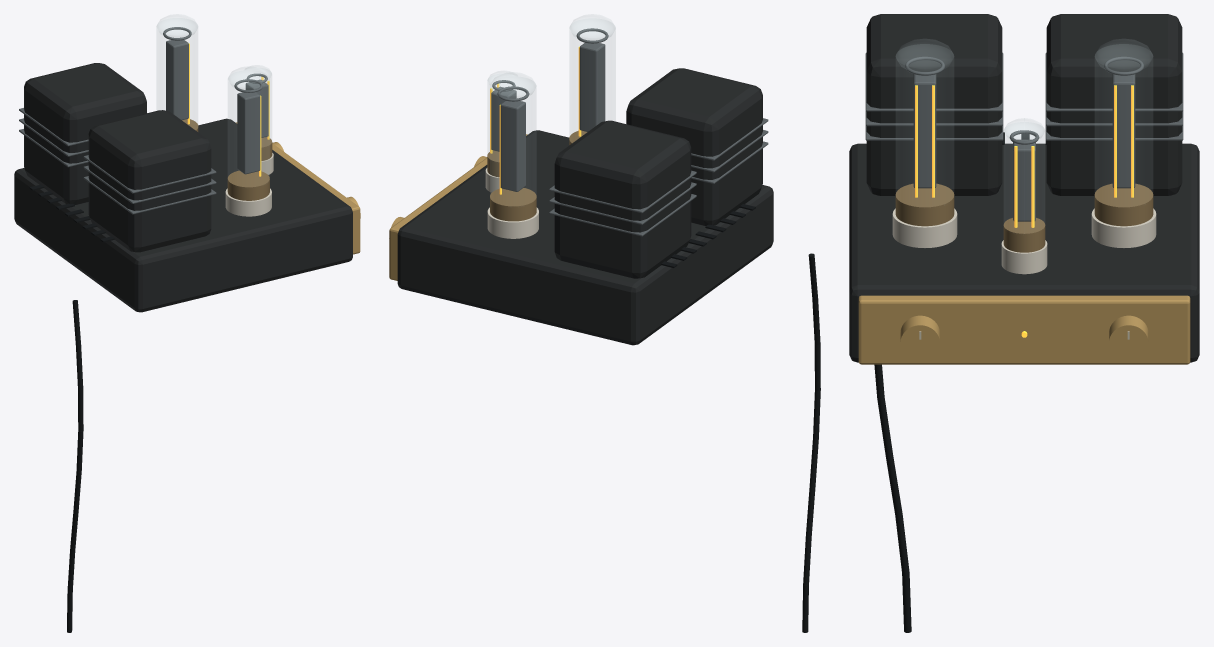
File: tube-amplifier-right.glb
3 views of the same model, side by side, from view 1: azimuth 30°, elevation 25°; view 2: azimuth 150°, elevation 25°; view 3: azimuth 270°, elevation 25° (orthographic). The views are drawn at different scales.
Parts seen in each view (by area): view 1: part::tube-amplifier-right/brushed-chassis-001, part::tube-amplifier-right/output-transformer-bell-002, part::tube-amplifier-right/output-transformer-bell-001, part::tube-amplifier-right/internal-anode-plate-002, part::tube-amplifier-right/internal-anode-plate-001, part::tube-amplifier-right/glass-valve-envelope-002, part::tube-amplifier-right/glass-valve-envelope-001, part::tube-amplifier-right/valve-brass-base-002, part::tube-amplifier-right/champagne-faceplate-001, part::tube-amplifier-right/ceramic-tube-socket-002, part::tube-amplifier-right/rounded-glass-crown-001, part::tube-amplifier-right/rounded-glass-crown-002 (+1 smaller); view 2: part::tube-amplifier-right/brushed-chassis-001, part::tube-amplifier-right/output-transformer-bell-001, part::tube-amplifier-right/output-transformer-bell-002, part::tube-amplifier-right/internal-anode-plate-001, part::tube-amplifier-right/internal-anode-plate-002, part::tube-amplifier-right/glass-valve-envelope-001, part::tube-amplifier-right/glass-valve-envelope-002, part::tube-amplifier-right/valve-brass-base-001, part::tube-amplifier-right/champagne-faceplate-001, part::tube-amplifier-right/ceramic-tube-socket-001, part::tube-amplifier-right/rounded-glass-crown-001, part::tube-amplifier-right/rounded-glass-crown-002 (+1 smaller); view 3: part::tube-amplifier-right/brushed-chassis-001, part::tube-amplifier-right/output-transformer-bell-001, part::tube-amplifier-right/output-transformer-bell-002, part::tube-amplifier-right/champagne-faceplate-001, part::tube-amplifier-right/glass-valve-envelope-001, part::tube-amplifier-right/glass-valve-envelope-002, part::tube-amplifier-right/valve-brass-base-001, part::tube-amplifier-right/valve-brass-base-002, part::tube-amplifier-right/internal-anode-plate-001, part::tube-amplifier-right/internal-anode-plate-002, part::tube-amplifier-right/ceramic-tube-socket-001, part::tube-amplifier-right/ceramic-tube-socket-002 (+15 smaller).
Boxes of the visible parts, left/top/right/bottom form: part::tube-amplifier-right/brushed-chassis-001: left=14, top=118, right=352, bottom=312; part::tube-amplifier-right/output-transformer-bell-002: left=88, top=110, right=211, bottom=252; part::tube-amplifier-right/output-transformer-bell-001: left=24, top=63, right=146, bottom=204; part::tube-amplifier-right/internal-anode-plate-002: left=237, top=90, right=260, bottom=174; part::tube-amplifier-right/internal-anode-plate-001: left=166, top=37, right=188, bottom=120; part::tube-amplifier-right/glass-valve-envelope-002: left=228, top=79, right=269, bottom=176; part::tube-amplifier-right/glass-valve-envelope-001: left=157, top=19, right=197, bottom=122; part::tube-amplifier-right/valve-brass-base-002: left=227, top=170, right=269, bottom=200; part::tube-amplifier-right/champagne-faceplate-001: left=236, top=122, right=360, bottom=254; part::tube-amplifier-right/ceramic-tube-socket-002: left=225, top=188, right=271, bottom=216; part::tube-amplifier-right/rounded-glass-crown-001: left=157, top=14, right=197, bottom=37; part::tube-amplifier-right/rounded-glass-crown-002: left=228, top=67, right=268, bottom=89; part::tube-amplifier-right/brushed-chassis-001: left=397, top=130, right=773, bottom=345; part::tube-amplifier-right/output-transformer-bell-001: left=554, top=120, right=691, bottom=278; part::tube-amplifier-right/output-transformer-bell-002: left=626, top=68, right=762, bottom=225; part::tube-amplifier-right/internal-anode-plate-001: left=500, top=98, right=525, bottom=191; part::tube-amplifier-right/internal-anode-plate-002: left=579, top=42, right=605, bottom=131; part::tube-amplifier-right/glass-valve-envelope-001: left=490, top=83, right=535, bottom=193; part::tube-amplifier-right/glass-valve-envelope-002: left=570, top=28, right=615, bottom=134; part::tube-amplifier-right/valve-brass-base-001: left=490, top=188, right=536, bottom=221; part::tube-amplifier-right/champagne-faceplate-001: left=389, top=134, right=527, bottom=280; part::tube-amplifier-right/ceramic-tube-socket-001: left=487, top=207, right=538, bottom=238; part::tube-amplifier-right/rounded-glass-crown-001: left=491, top=72, right=535, bottom=97; part::tube-amplifier-right/rounded-glass-crown-002: left=570, top=14, right=614, bottom=39; part::tube-amplifier-right/brushed-chassis-001: left=849, top=143, right=1199, bottom=362; part::tube-amplifier-right/output-transformer-bell-001: left=1046, top=14, right=1182, bottom=195; part::tube-amplifier-right/output-transformer-bell-002: left=866, top=14, right=1002, bottom=195; part::tube-amplifier-right/champagne-faceplate-001: left=858, top=295, right=1190, bottom=364; part::tube-amplifier-right/glass-valve-envelope-001: left=1095, top=54, right=1152, bottom=191; part::tube-amplifier-right/glass-valve-envelope-002: left=896, top=54, right=953, bottom=191; part::tube-amplifier-right/valve-brass-base-001: left=1094, top=183, right=1153, bottom=226; part::tube-amplifier-right/valve-brass-base-002: left=895, top=183, right=954, bottom=226; part::tube-amplifier-right/internal-anode-plate-001: left=1112, top=74, right=1135, bottom=188; part::tube-amplifier-right/internal-anode-plate-002: left=913, top=74, right=936, bottom=188; part::tube-amplifier-right/ceramic-tube-socket-001: left=1091, top=208, right=1156, bottom=247; part::tube-amplifier-right/ceramic-tube-socket-002: left=892, top=208, right=957, bottom=247.
Size of the model in its own units: 0.4968 by 0.8314 by 0.37.
